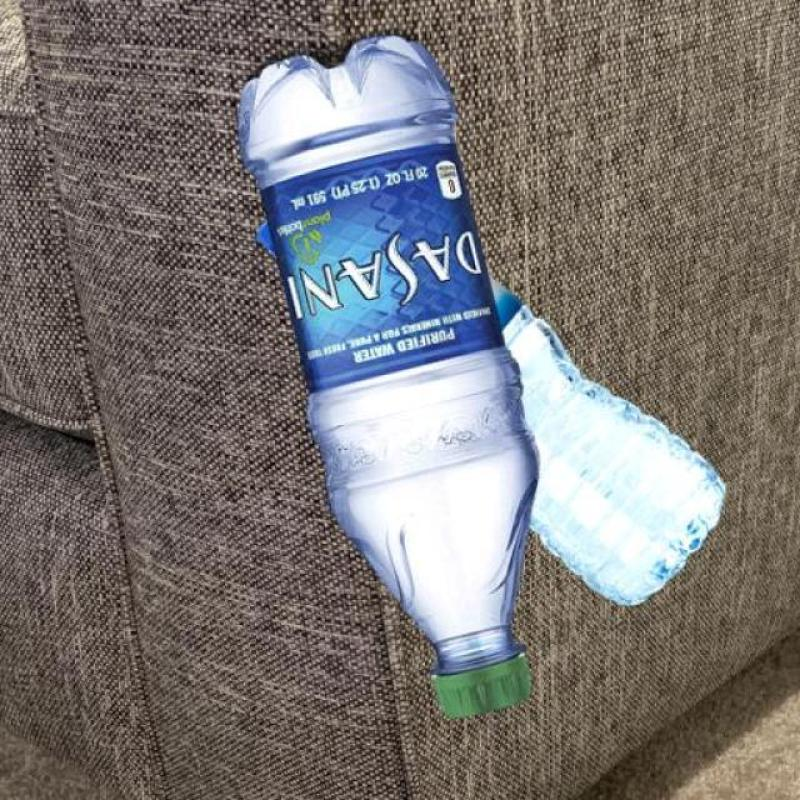botella: (229, 35, 535, 720), (256, 205, 732, 609)
